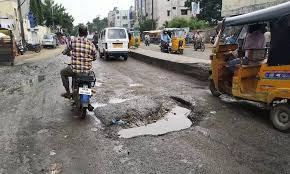pothole: (96, 96, 198, 138)
